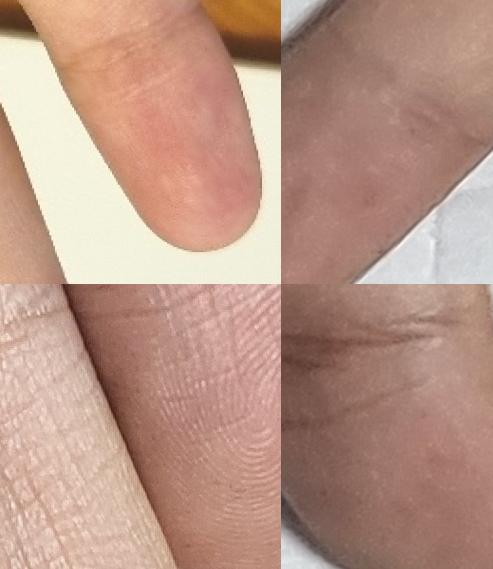Fingerprints: (62, 284, 281, 569), (281, 305, 493, 569), (53, 4, 261, 252), (281, 28, 482, 284)
